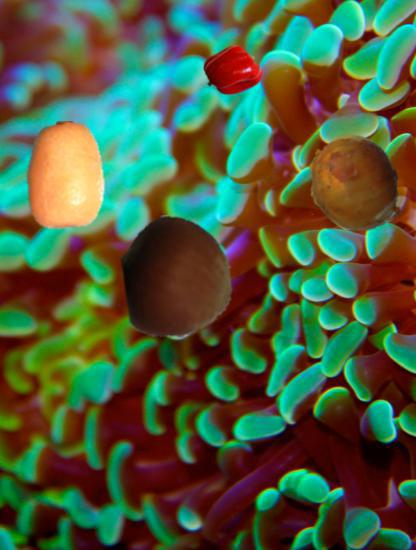Kumquats: (10, 121, 121, 232)
Nut: (116, 214, 239, 337)
Onion: (303, 133, 405, 235)
Pepper: (205, 44, 261, 100)
